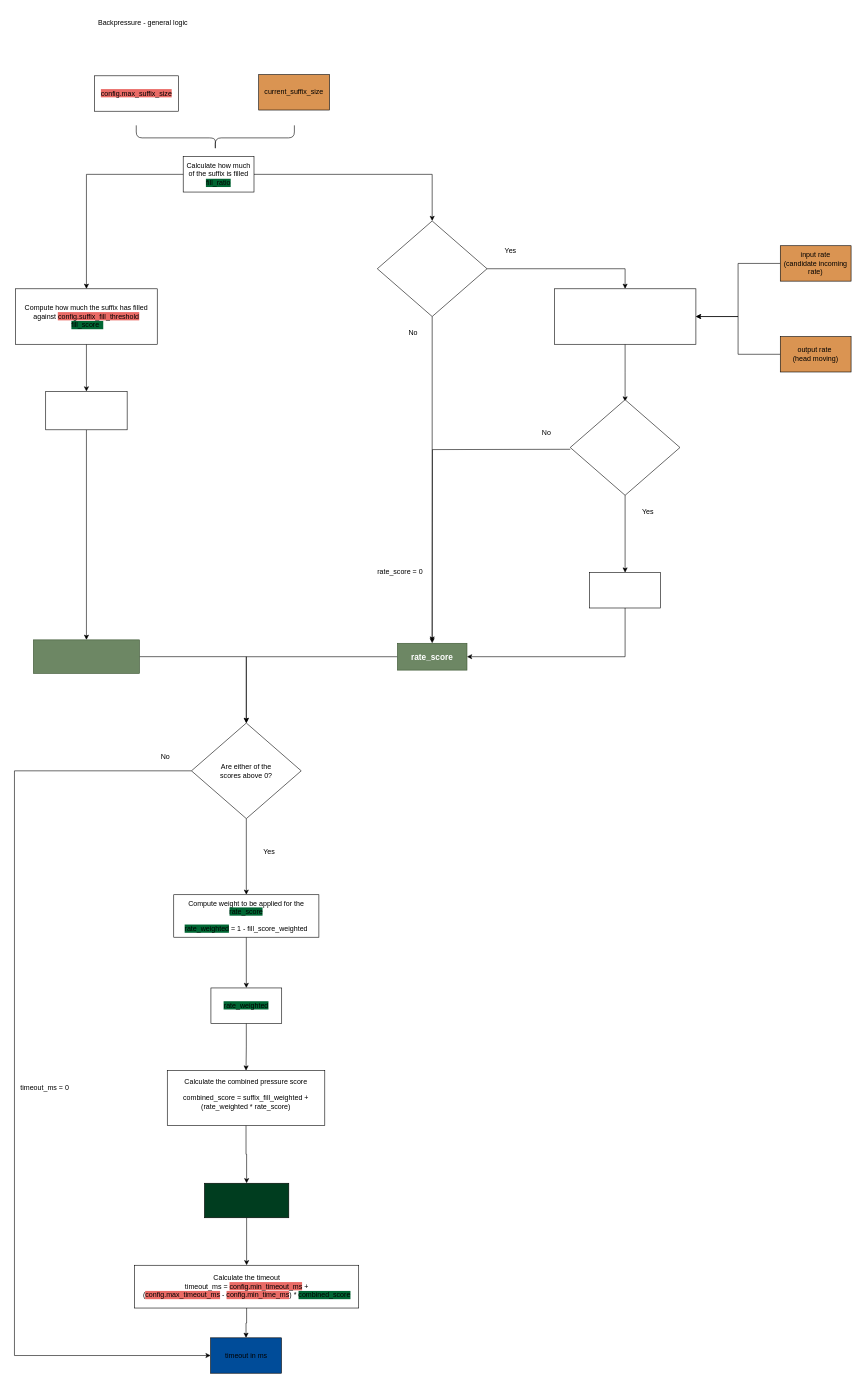
This 861x1384 diagram has some shape labels left out. The centre of each missing label's shape, as x and y in pixels:
combined_score: pixel 246 1200
Compute the difference between input and output rate delta_rate: pixel 625 316
Convert delta_rate to a rate_score: pixel 625 590
Convert from linear to weighted exponential suffix_fill_weighted: pixel 86 410
Is delta_rate > config.rate_delta_threshold?: pixel 625 447
Is fill_ratio > config.suffix_rate_threshold: pixel 432 268
suffix_fill_weighted: pixel 86 656
